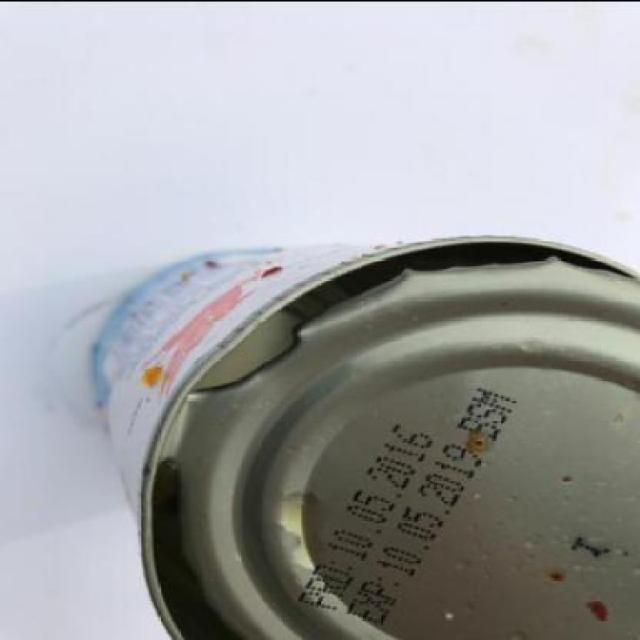METAL: (88, 236, 640, 638)
